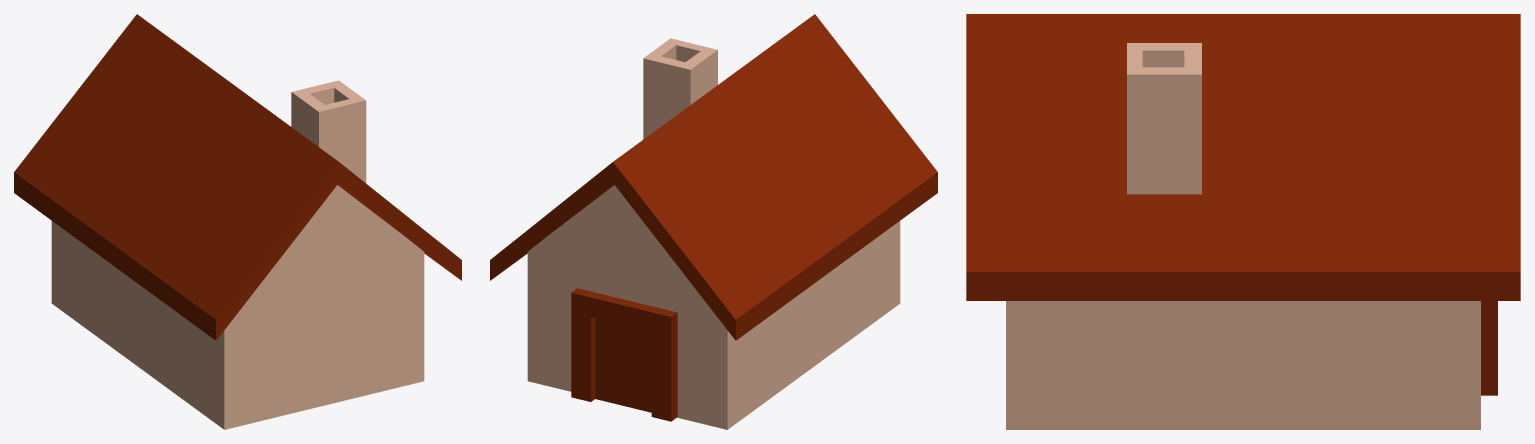
File: house.fbx
3 renders of one model, left to right at view 1: azimuth 30°, elevation 25°; view 2: azimuth 150°, elevation 25°; view 3: azimuth 270°, elevation 25°, orthographic. The views are drawn at different scales.
Parts seen in each view (by area): view 1: House_Roof, House_Body, House_Chimney; view 2: House_Roof, House_Body, House_Door, House_Chimney; view 3: House_Roof, House_Body, House_Chimney, House_Door.
Boxes of the visible parts, bbox=[...] form: House_Roof: bbox=[14, 14, 461, 340]; House_Body: bbox=[51, 185, 424, 429]; House_Chimney: bbox=[291, 80, 366, 183]; House_Roof: bbox=[490, 14, 937, 340]; House_Body: bbox=[527, 185, 900, 429]; House_Door: bbox=[571, 288, 677, 421]; House_Chimney: bbox=[643, 38, 717, 139]; House_Roof: bbox=[966, 14, 1520, 300]; House_Body: bbox=[1006, 301, 1480, 429]; House_Chimney: bbox=[1127, 43, 1201, 194]; House_Door: bbox=[1481, 301, 1497, 395].
Size of the model in its own units: 492 by 486 by 700.
